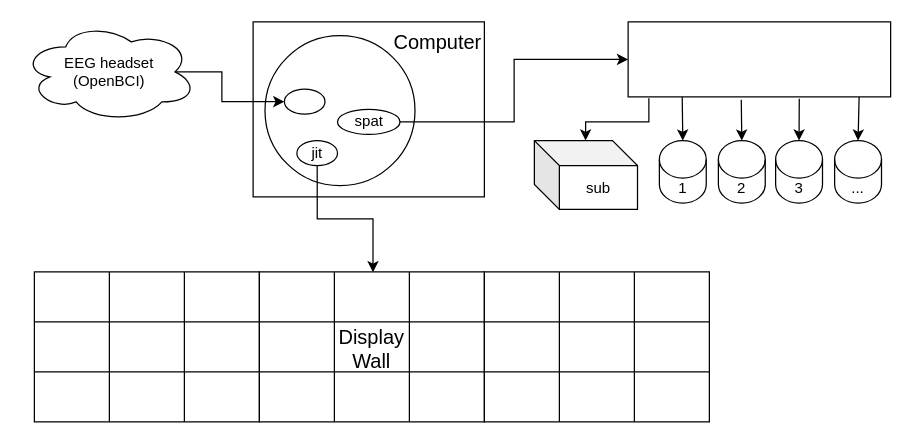
Some shapes in this 913 by 444 pixel diagram are drawn without their labels. The box of each missing label's shape, as (x1, y1, x2, y2) in pixels:
Max/MSP: (264, 34, 415, 186)
RME HDSP3 MADI FX: (627, 21, 891, 97)
udp: (283, 88, 325, 114)
